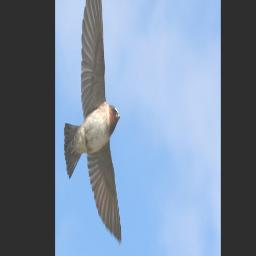Swallow: (63, 0, 122, 243)
